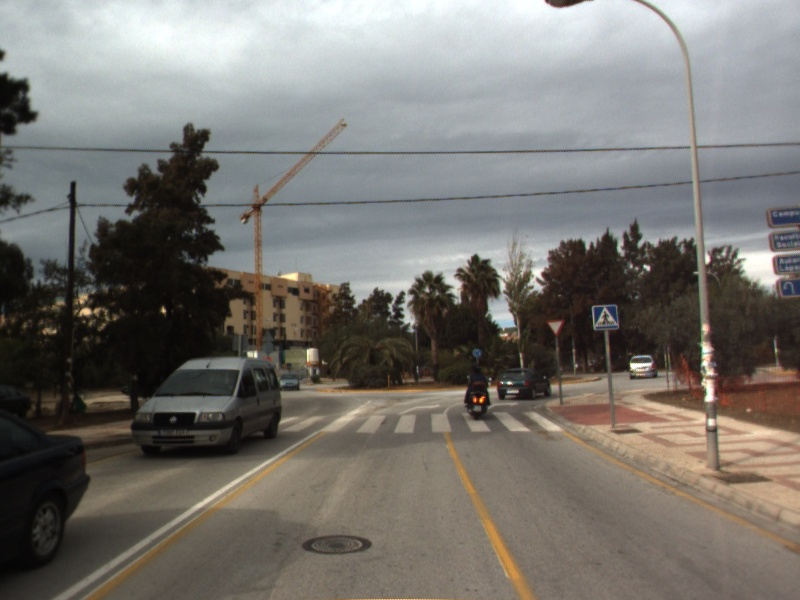RIGHT: (396, 401, 442, 417), (486, 399, 521, 411)
